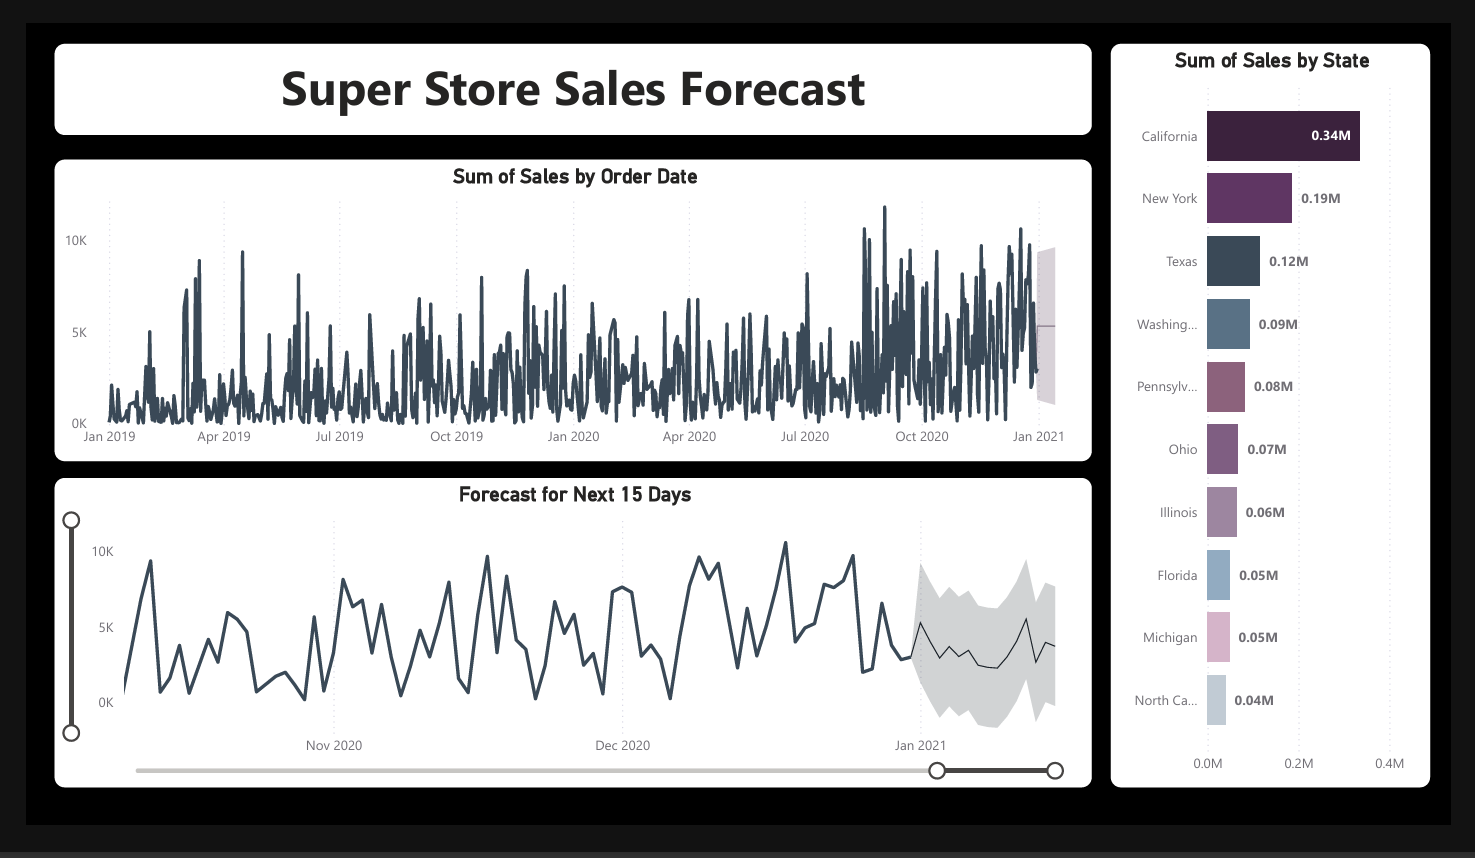

This screenshot's page, from the dashboard's own definition file:
{"tool":"powerbi","page":{"name":"Page 2","canvas":[1280,720],"ordinal":1},"visuals":[{"type":"lineChart","title":"Sum of Sales by Order Date","fields":{"Y":["Sum(SuperStore_Sales_Dataset.Sales)"],"Category":["SuperStore_Sales_Dataset.Order Date"]},"box":[23.2,119.5,935.4,275.6],"z":0},{"type":"lineChart","title":"Forecast for Next 15 Days","fields":{"Y":["Sum(SalesForcast.Total Sales)"],"Category":["SalesForcast.Order Date"]},"box":[23.2,406.1,935.4,281.7],"z":1000},{"type":"clusteredBarChart","fields":{"Y":["Sum(SuperStore_Sales_Dataset.Sales)"],"Category":["SuperStore_Sales_Dataset.State"]},"box":[972,15.9,291.5,672],"z":2000},{"type":"textbox","box":[23.2,15.9,935.4,86.6],"z":2001}]}

Visuals, with their boxes in screenshot pixels (x1, y1, x2, y2):
"Sum of Sales by Order Date" lineChart: (x1=64, y1=154, x2=1089, y2=456)
"Forecast for Next 15 Days" lineChart: (x1=64, y1=468, x2=1089, y2=777)
clusteredBarChart - Sum(SuperStore_Sales_Dataset.Sales) x SuperStore_Sales_Dataset.State: (x1=1104, y1=40, x2=1423, y2=777)
textbox: (x1=64, y1=40, x2=1089, y2=135)
